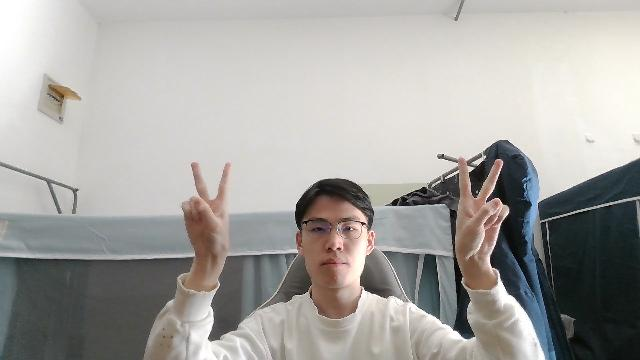yes: (451, 154, 508, 277), (179, 156, 232, 272)
